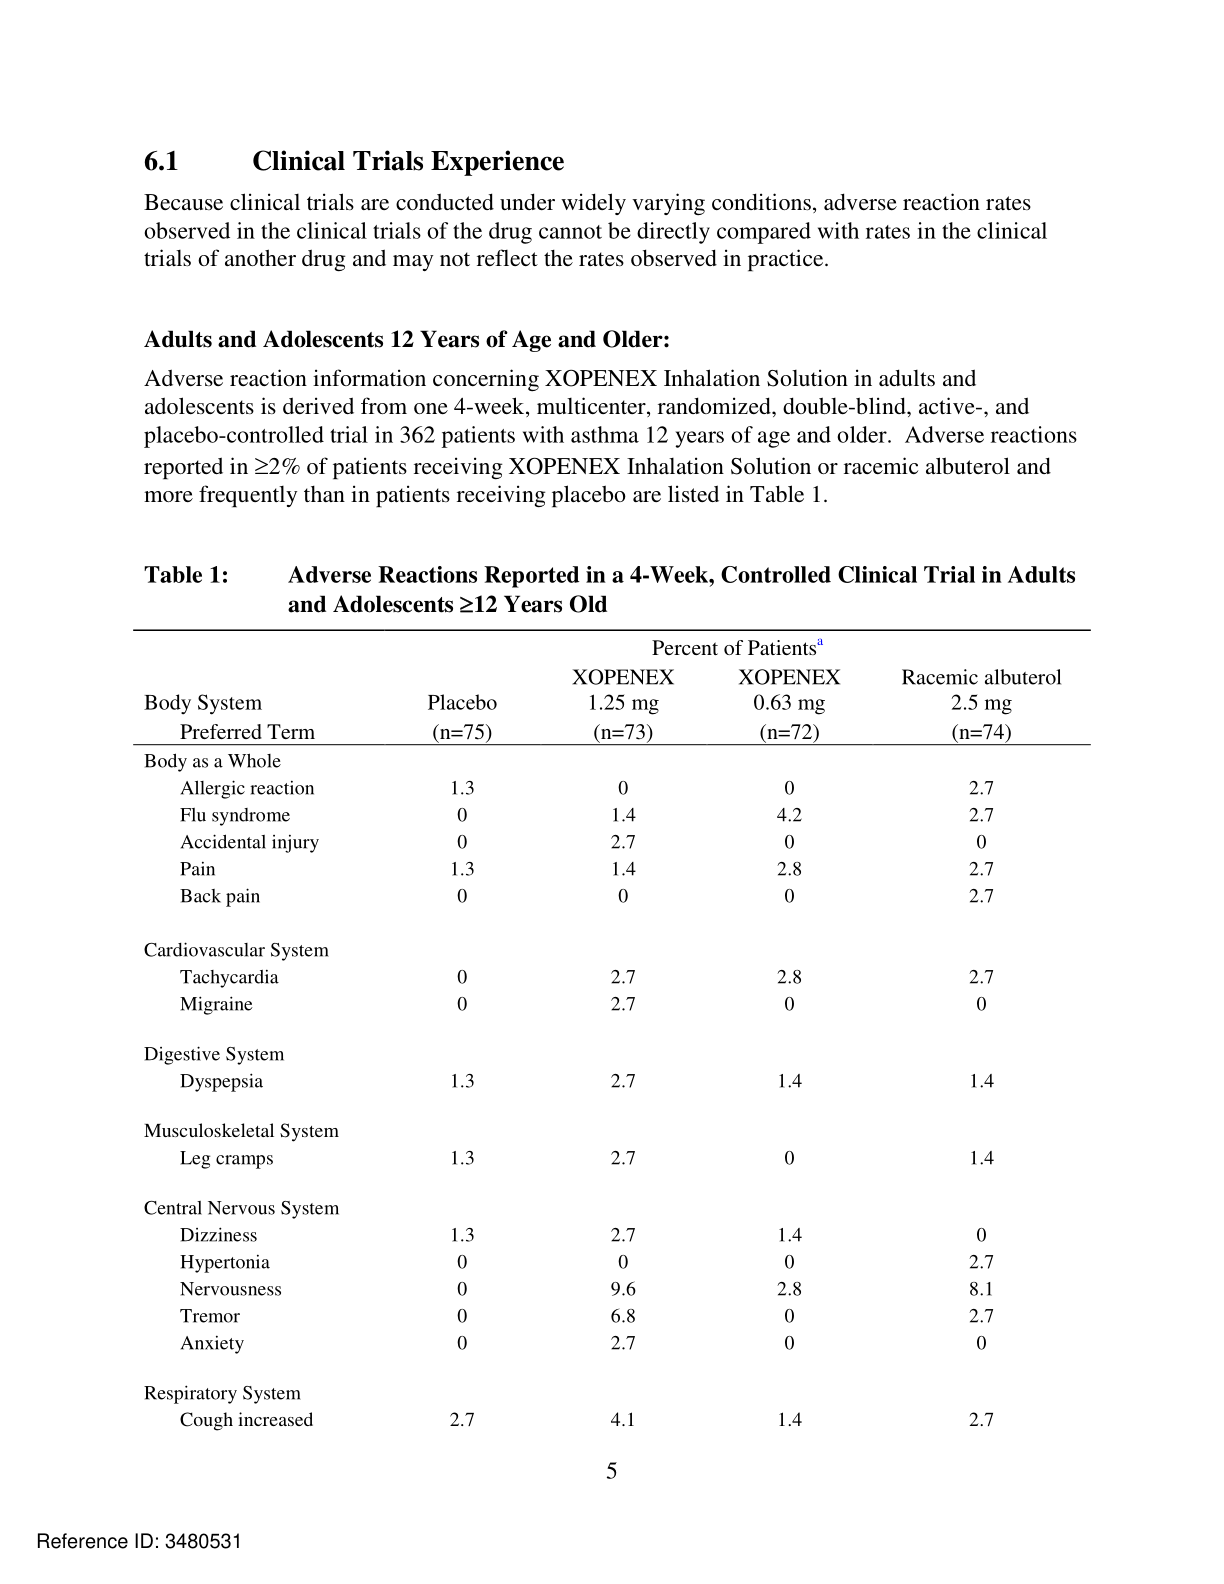partial_lined_merged_cells: (132, 627, 1092, 1434)
